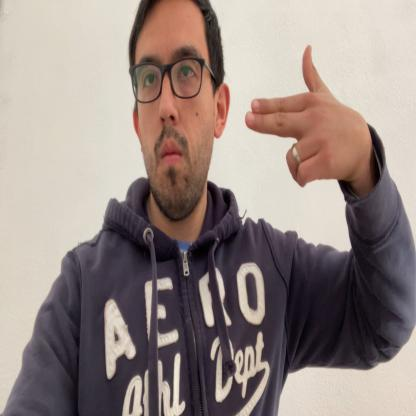H: (246, 39, 358, 190)
